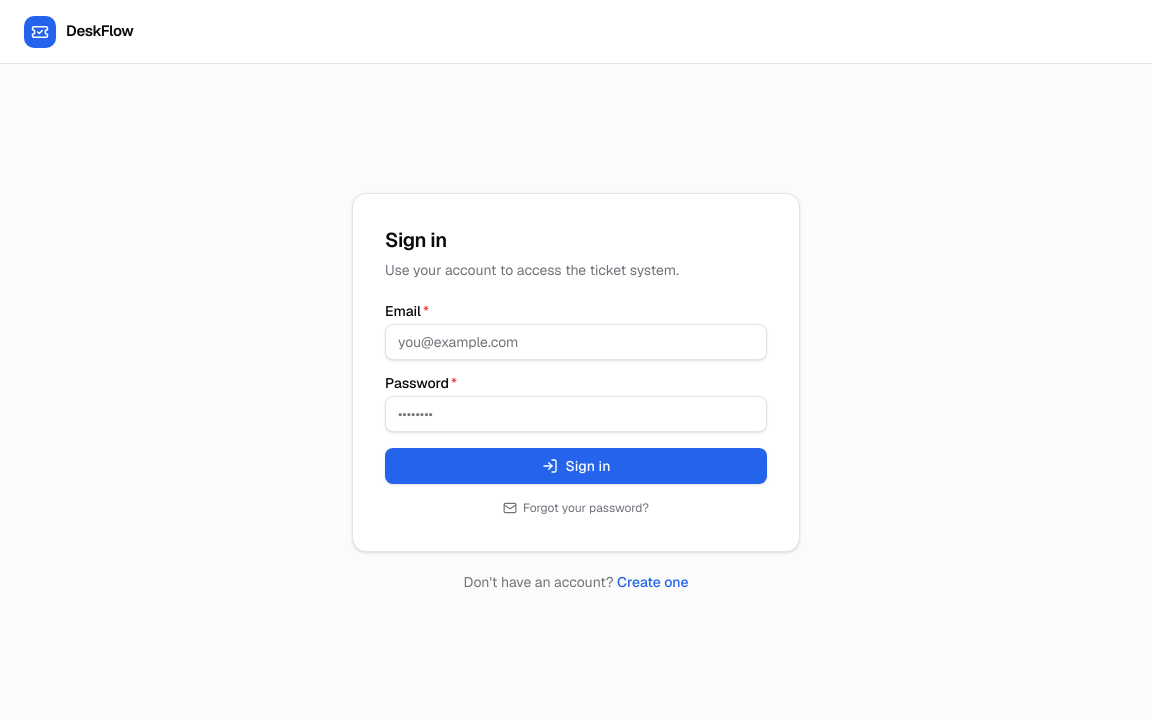
it: LoginPage › shows field errors when submitting an empty form
Click the button "Sign in" at (576, 466), box [385,448,767,484]
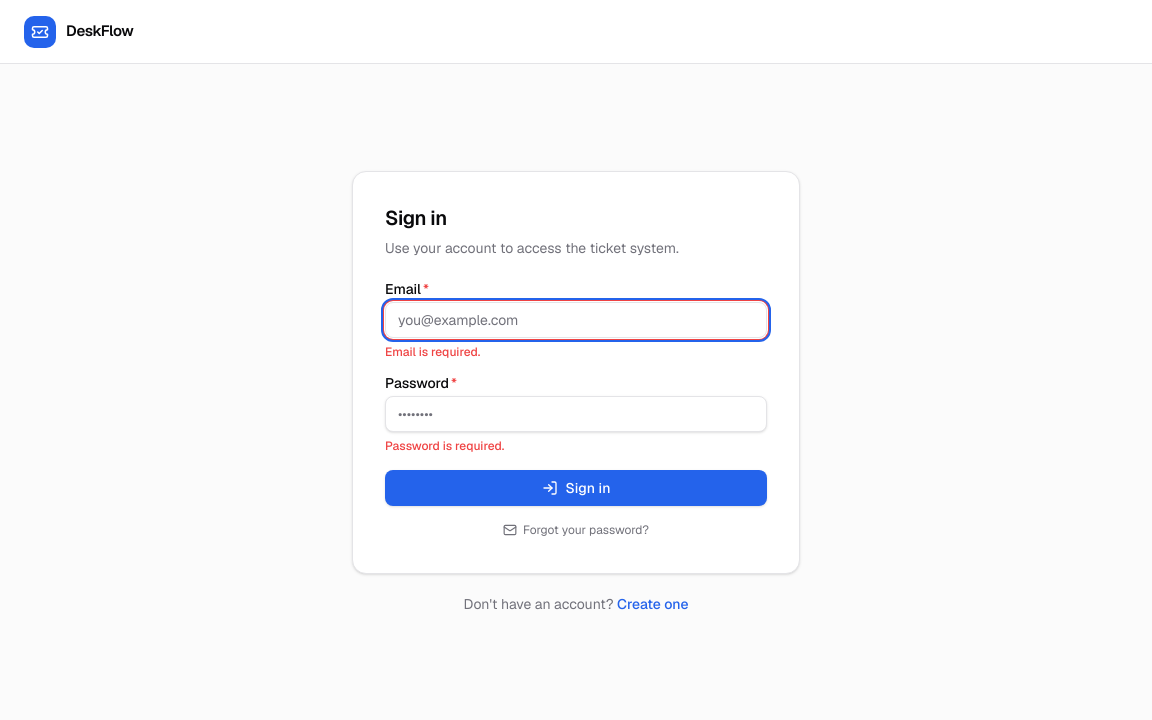
Expected: the text "Email is required." is shown, [385,344,480,360]
Expected: the text "Password is required." is shown, [385,438,504,454]
